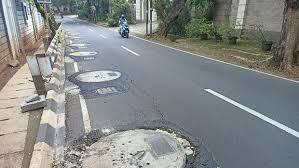Pothole: (49, 119, 199, 168), (67, 65, 135, 101), (62, 42, 99, 63), (66, 29, 88, 48)
